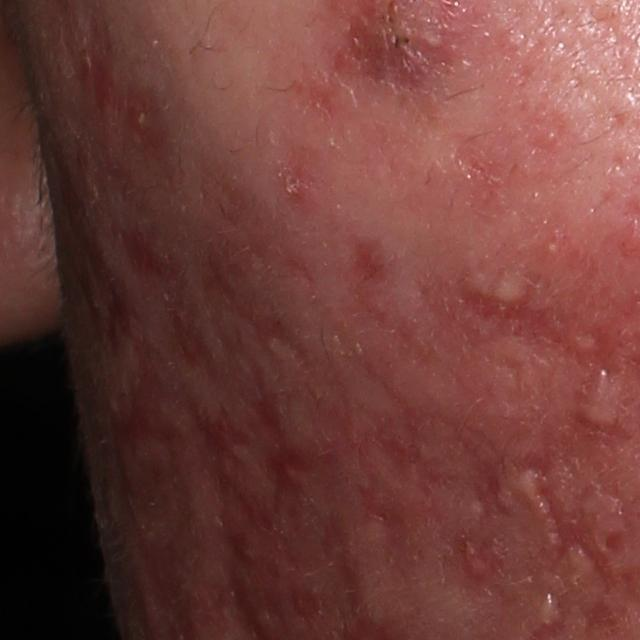atrophic_scar: (317, 398, 519, 593), (459, 284, 631, 380), (514, 451, 616, 595), (339, 239, 438, 367), (203, 268, 316, 378), (250, 391, 311, 521), (115, 229, 180, 283), (579, 600, 620, 640)
hypertrophic_scar: (494, 269, 529, 305), (509, 469, 543, 503), (532, 592, 555, 629)
